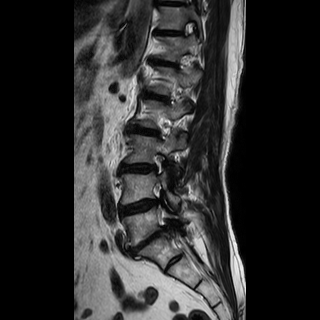LFS0: (141, 150, 174, 180)
